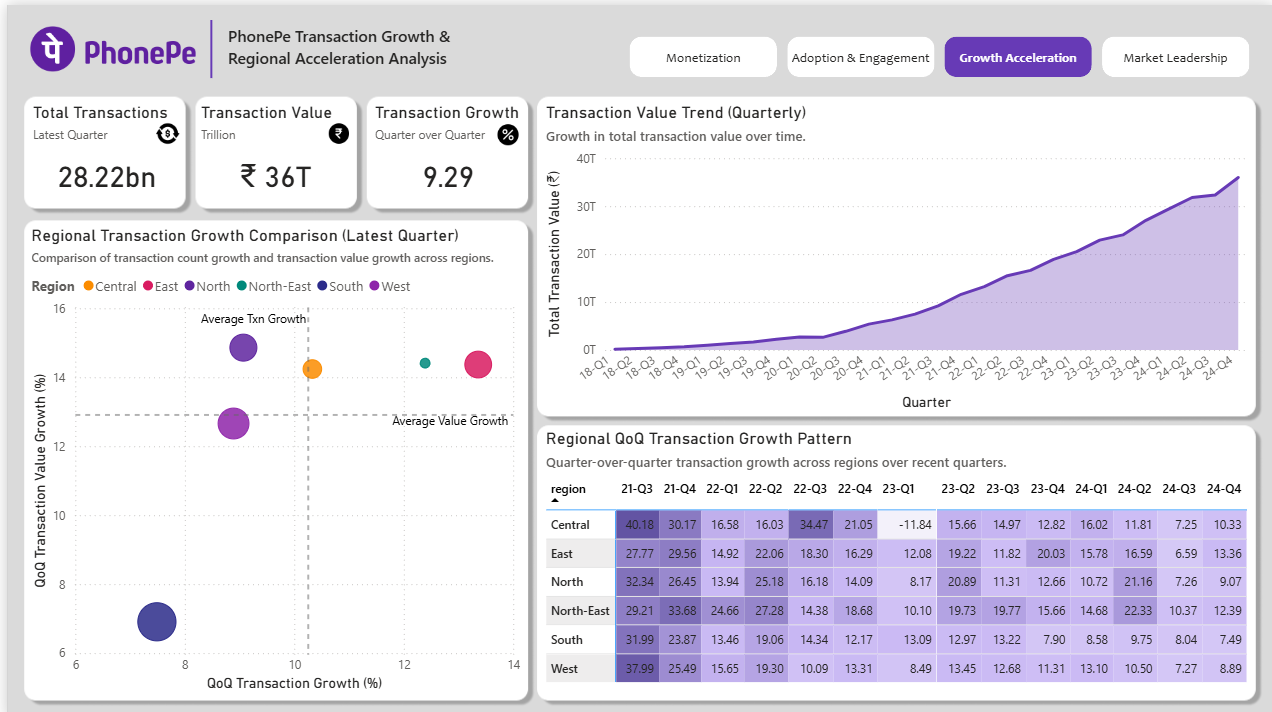

The dashboard page shown, as its layout file describes it:
{"tool":"powerbi","page":{"name":"Growth Acceleration","canvas":[1280,720],"ordinal":2},"visuals":[{"type":"lineChart","title":"Transaction Value Trend (Quarterly)","fields":{"Y":["Sum(vw_national_growth.total_transaction_value_rupees)"],"Category":["dim_time.short_year_quarter"]},"box":[540,98.3,718.3,315],"z":0},{"type":"card","title":"Total Transactions","fields":{"Values":["Max(vw_national_growth.total_transactions)"]},"box":[20.5,98.3,158.5,107.1],"z":1000},{"type":"card","title":"Transaction Value","fields":{"Values":["Max(vw_national_growth.total_transaction_value_rupees)"]},"box":[191.2,98.8,160,106.2],"z":2000},{"type":"card","title":"Transaction Growth","fields":{"Values":["Max(vw_national_growth.qoq_growth_transactions_percent)"]},"box":[366.9,98.3,157,107.1],"z":3000},{"type":"scatterChart","title":"Regional Transaction Growth Comparison (Latest Quarter)","fields":{"X":["vw_regional_growth.qoq_growth_transactions_percent"],"Y":["vw_regional_growth.qoq_growth_value_percent"],"Series":["vw_regional_growth.region"],"Size":["Sum(vw_regional_growth.total_transaction_value_crore)"]},"box":[20,223.3,503.3,475],"z":4000},{"type":"pivotTable","title":"Regional QoQ Transaction Growth Pattern","fields":{"Values":["Avg(vw_regional_growth.qoq_growth_transactions_percent)"],"Columns":["dim_time.short_year_quarter"],"Rows":["vw_regional_growth.region"]},"box":[540,426.7,718.3,271.7],"z":5000},{"type":"image","box":[19.1,14.7,174.6,58.7],"z":6000},{"type":"pageNavigator","box":[628.1,32.3,626.6,41.1],"z":7000},{"type":"shape","box":[193.7,14.7,24.9,58.7],"z":8000},{"type":"textbox","box":[218.6,14.7,255.3,58.7],"z":9000},{"type":"image","box":[324,118.7,22,23.3],"z":9001},{"type":"image","box":[495.3,120,21.3,22],"z":9002},{"type":"image","box":[150,118.7,24,23.3],"z":9003}]}

Visuals, with their boxes in screenshot pixels (x1, y1, x2, y2), scaled from the page's 1280x720 canvas onto the 1272x712 screenshot:
"Transaction Value Trend (Quarterly)" lineChart: select_region(537, 97, 1250, 409)
"Total Transactions" card: select_region(20, 97, 178, 203)
"Transaction Value" card: select_region(190, 98, 349, 203)
"Transaction Growth" card: select_region(365, 97, 521, 203)
"Regional Transaction Growth Comparison (Latest Quarter)" scatterChart: select_region(20, 221, 520, 691)
"Regional QoQ Transaction Growth Pattern" pivotTable: select_region(537, 422, 1250, 691)
image: select_region(19, 15, 192, 73)
pageNavigator: select_region(624, 32, 1247, 73)
shape: select_region(192, 15, 217, 73)
textbox: select_region(217, 15, 471, 73)
image: select_region(322, 117, 344, 140)
image: select_region(492, 119, 513, 140)
image: select_region(149, 117, 173, 140)
